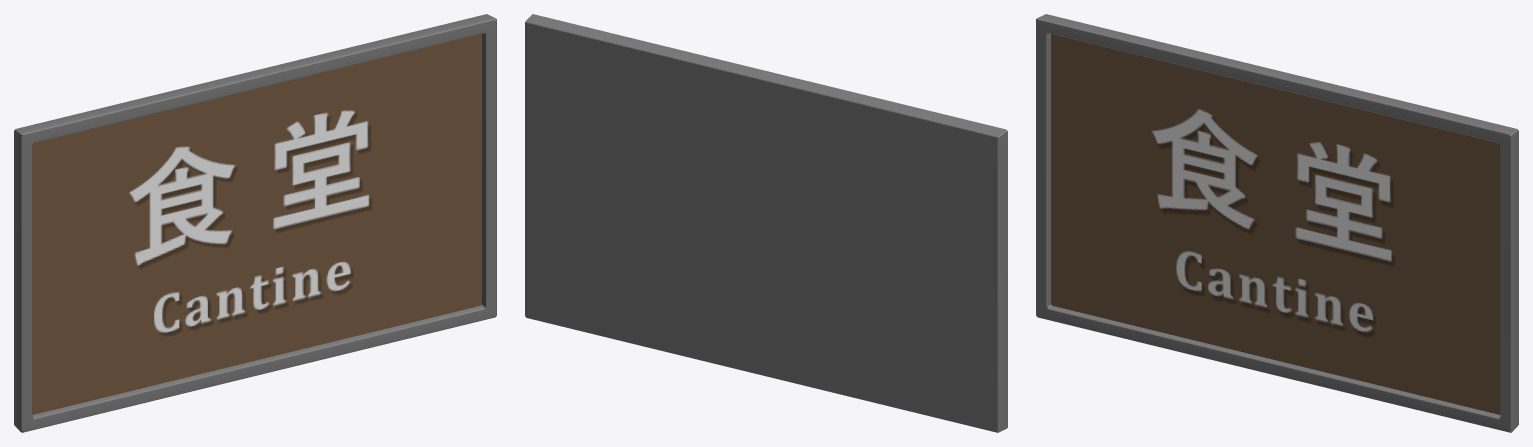
The model's file is SM_sign_cantine.fbx.
The picture shows the model from 3 angles, left to right: view 1: azimuth 30°, elevation 25°; view 2: azimuth 150°, elevation 25°; view 3: azimuth 330°, elevation 25°; orthographic projection.
Visible parts, largest first — view 1: sign_roomname10; view 2: sign_roomname10; view 3: sign_roomname10.
Boxes of the visible parts, box(x1,y1,x2,y2) form: sign_roomname10: box(14, 14, 496, 432); sign_roomname10: box(525, 14, 1007, 432); sign_roomname10: box(1036, 14, 1518, 432).
Bounding box in the file's own units: 34.09 × 20.46 × 1.13.
2 materials, 1 textured.
